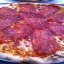pepperoni: (33, 23, 58, 56), (3, 24, 35, 45), (18, 9, 48, 31), (1, 7, 22, 28), (38, 5, 61, 18)
pizza: (1, 4, 64, 64)
